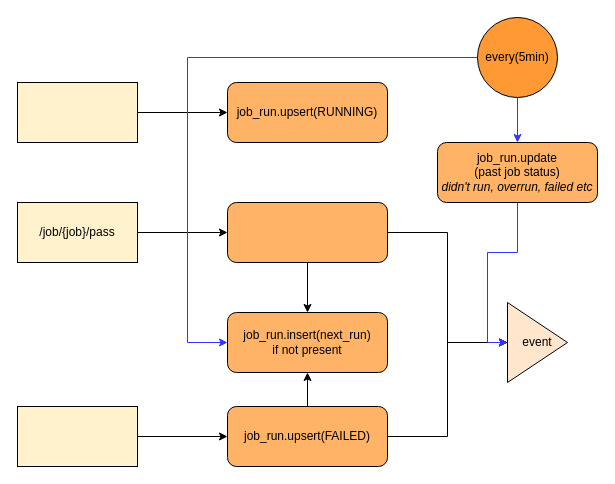
Some shapes in this 615 by 484 pixel diagram are drawn without their labels. The centre of each missing label's shape, as x and y in pixels:
/job/{job}/fail: the point at 77,436
/job/{job}/start: the point at 77,112
job_run.upsert(SUCCESS): the point at 307,232
